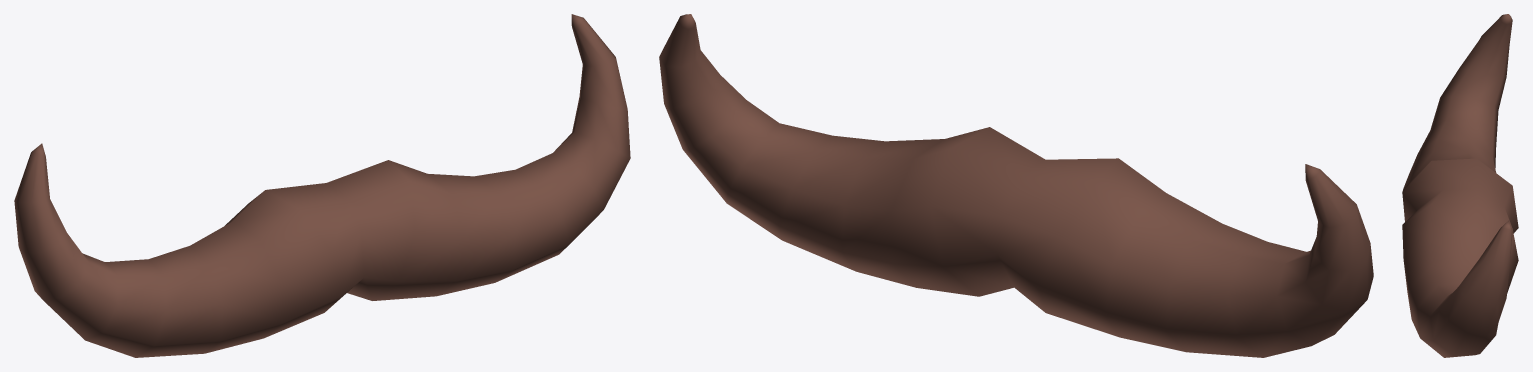
Rendered from Face_MustacheDastardly.fbx.
3 views of the same model, side by side, from view 1: azimuth 30°, elevation 25°; view 2: azimuth 150°, elevation 25°; view 3: azimuth 270°, elevation 25° (orthographic). The views are drawn at different scales.
Parts seen in each view (by area): view 1: Face_MustacheDastardly; view 2: Face_MustacheDastardly; view 3: Face_MustacheDastardly.
Boxes of the visible parts, x1,y1,x2,y2 form: Face_MustacheDastardly: [14, 14, 630, 357]; Face_MustacheDastardly: [659, 14, 1373, 357]; Face_MustacheDastardly: [1402, 14, 1518, 357].
Size of the model in its own units: 1.38 by 0.4571 by 0.2898.
